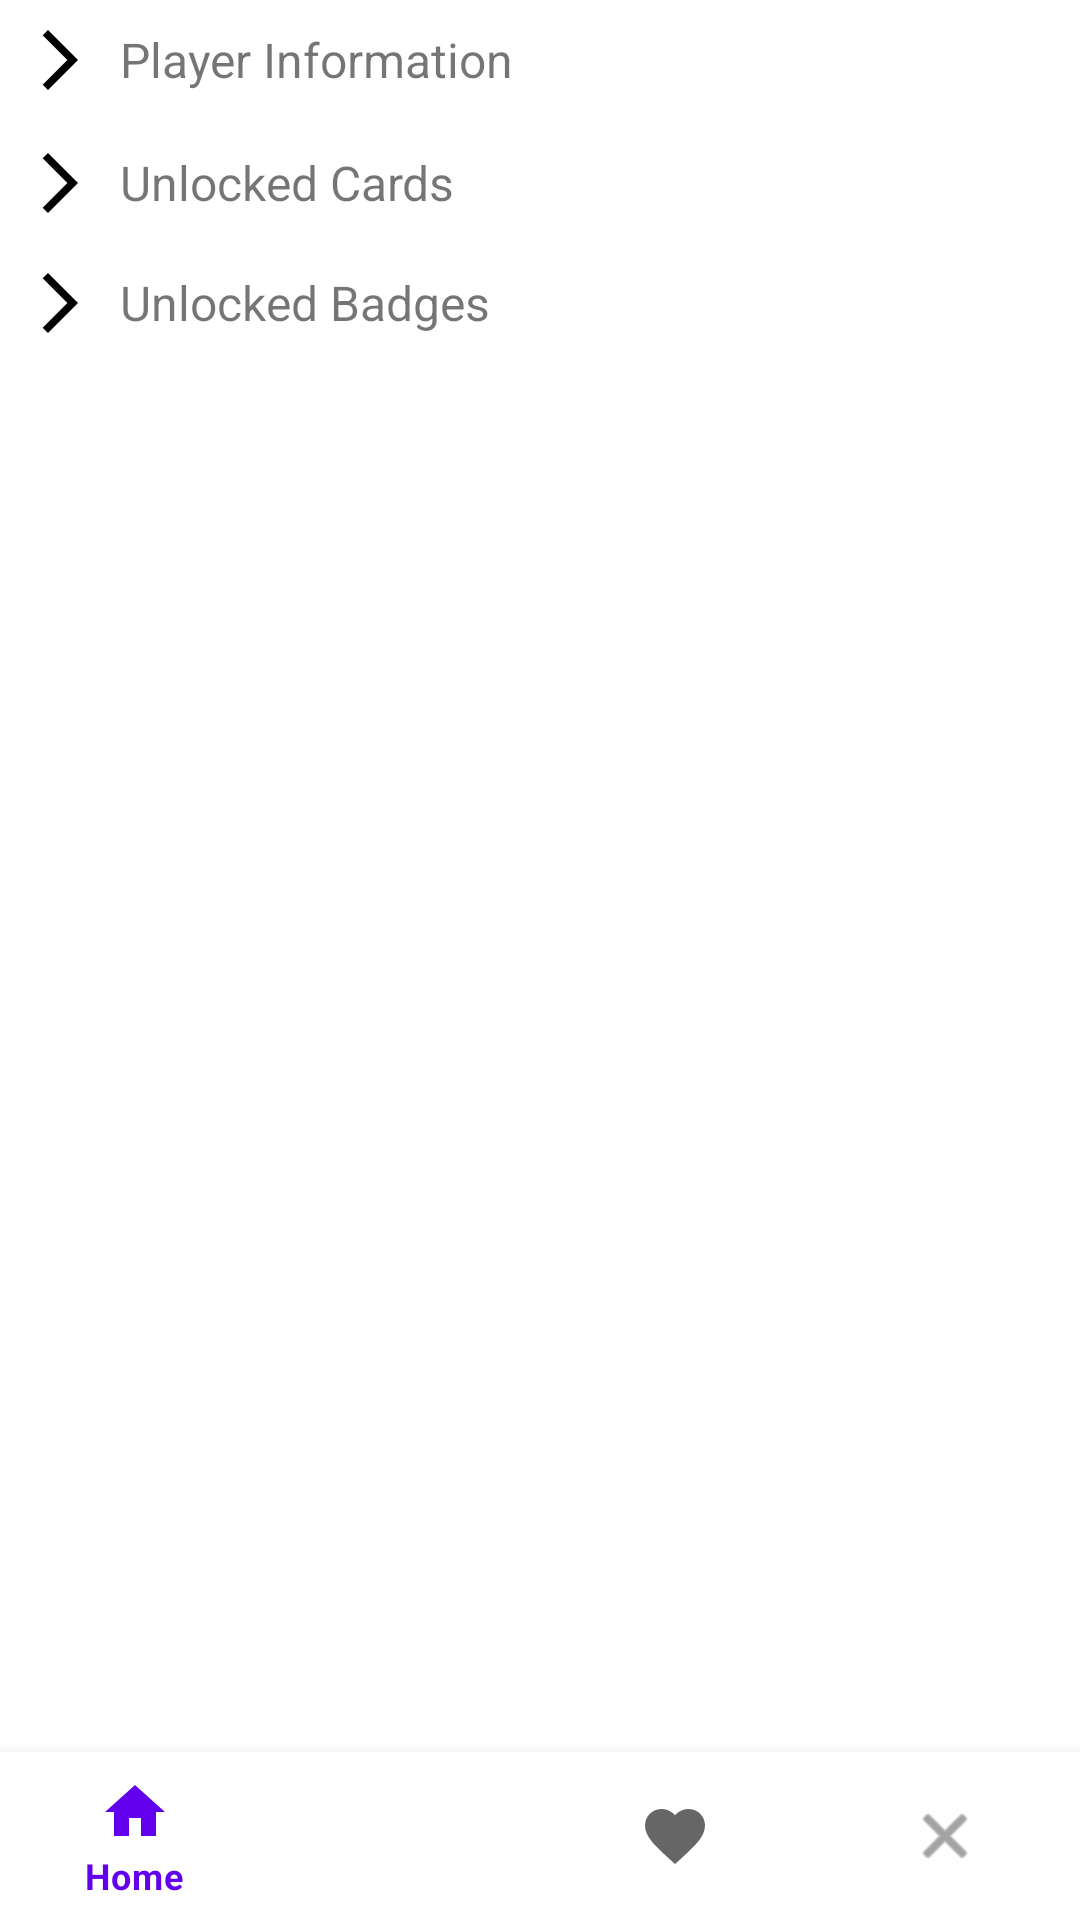

Named icons in this screenshot (1080*1920) and their centers, [x,y]:
arrow forward: [60,60], [60,183], [60,303]
